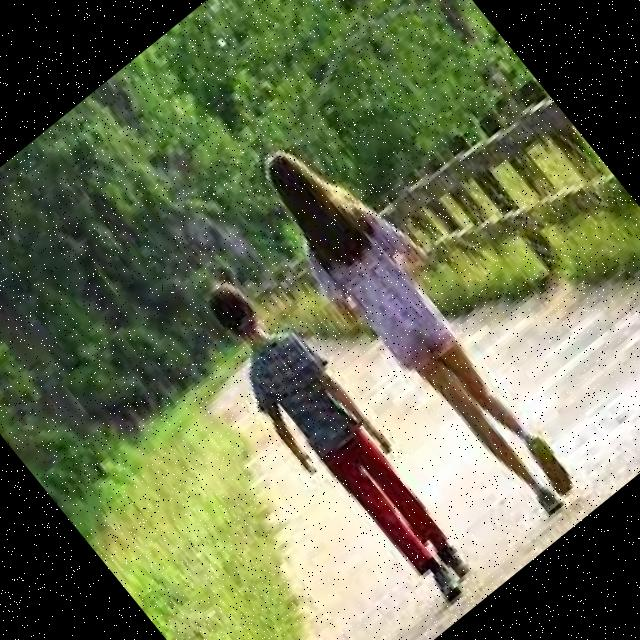Person: (236, 120, 601, 538), (180, 263, 492, 620)
